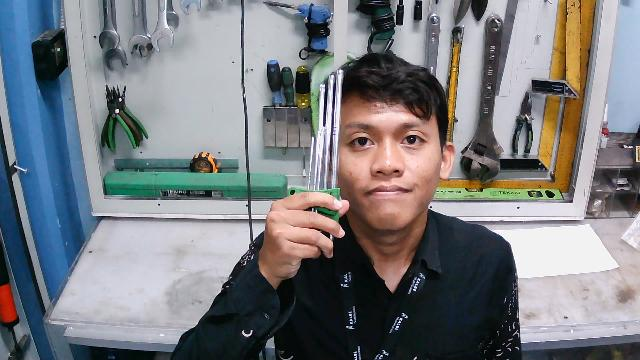kunci_l_bintang: (286, 71, 359, 257)
